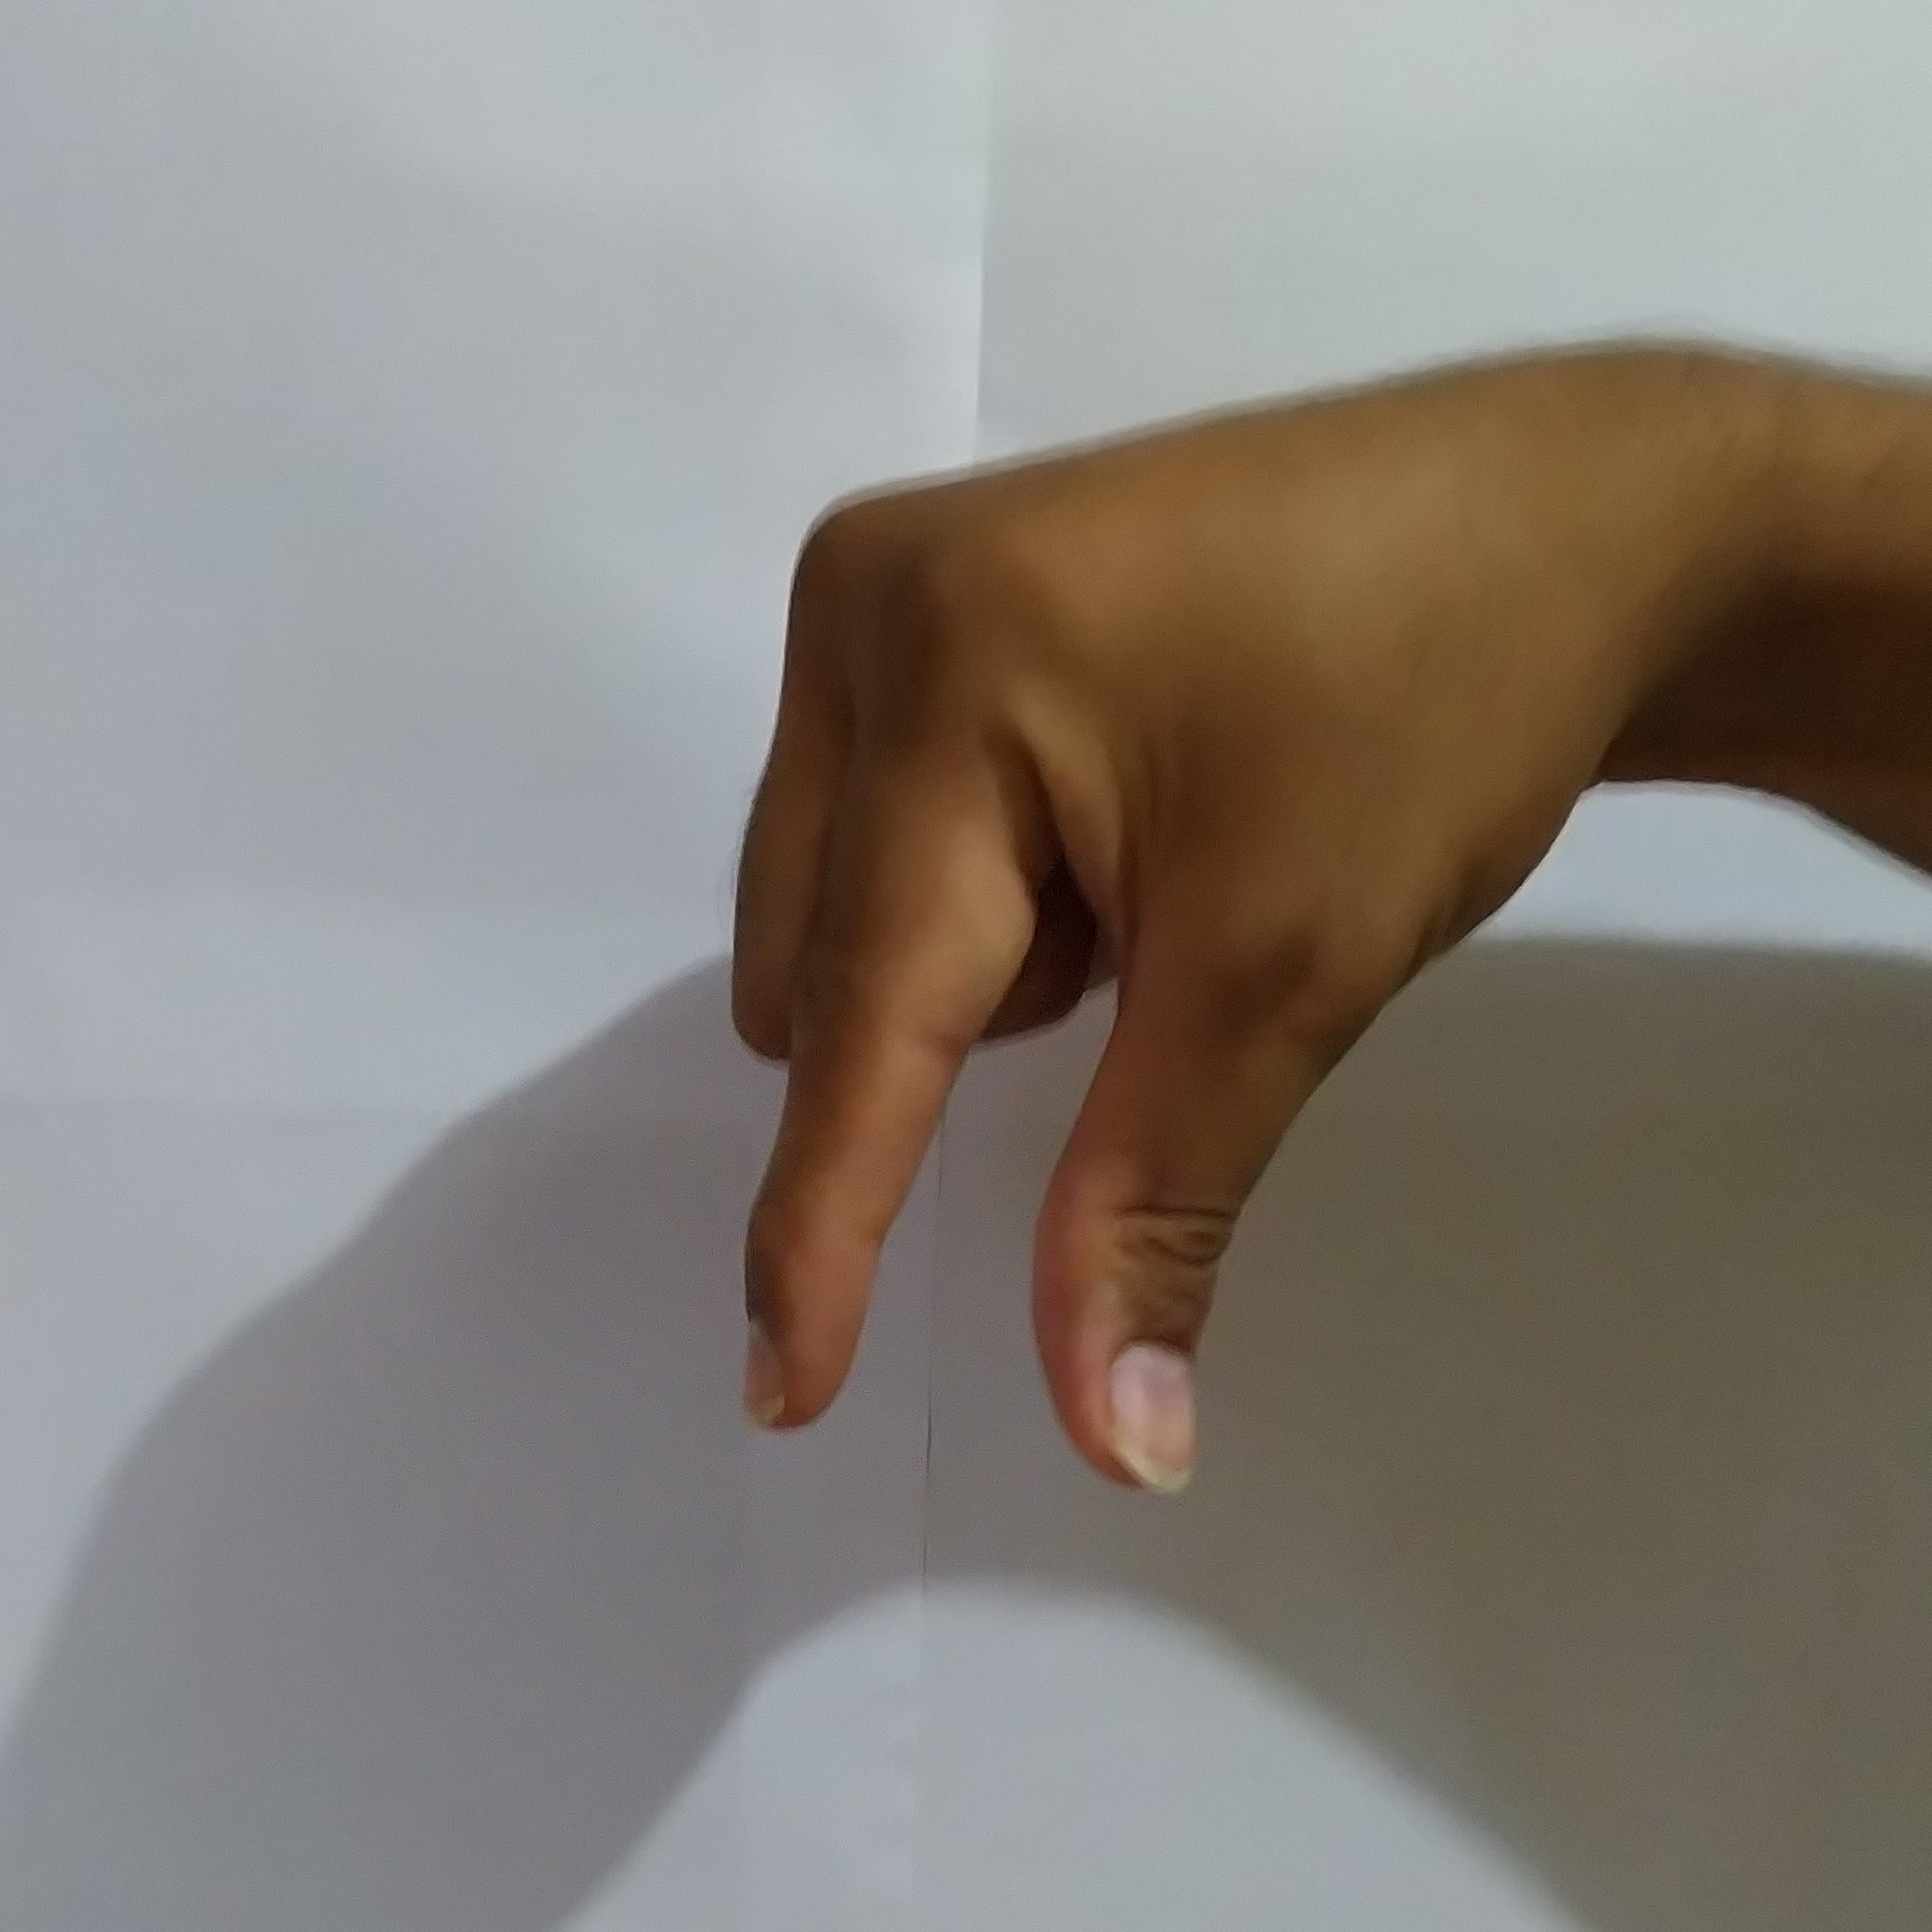Q: (690, 333, 1663, 1530)
